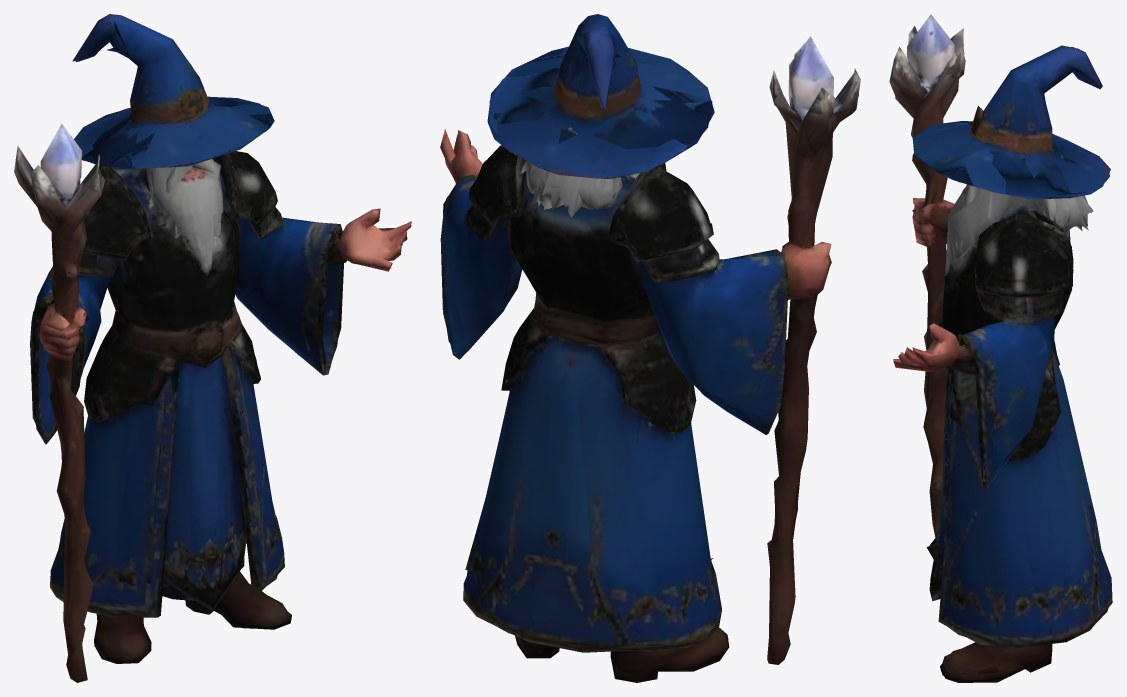
Rendered from detail_6_lo.glb.
The picture shows the model from 3 angles, left to right: view 1: azimuth 30°, elevation 25°; view 2: azimuth 150°, elevation 25°; view 3: azimuth 270°, elevation 25°; orthographic projection. The views are drawn at different scales.
Parts seen in each view (by area): view 1: Mesh_0.001; view 2: Mesh_0.001; view 3: Mesh_0.001.
Part boxes in pixels (bbox=[...]): Mesh_0.001: bbox=[14, 14, 411, 682]; Mesh_0.001: bbox=[440, 14, 860, 682]; Mesh_0.001: bbox=[889, 14, 1112, 682].
Bounding box in the file's own units: 0.6668 × 0.9956 × 0.3464.
Materials: 1 (1 with a texture image).
